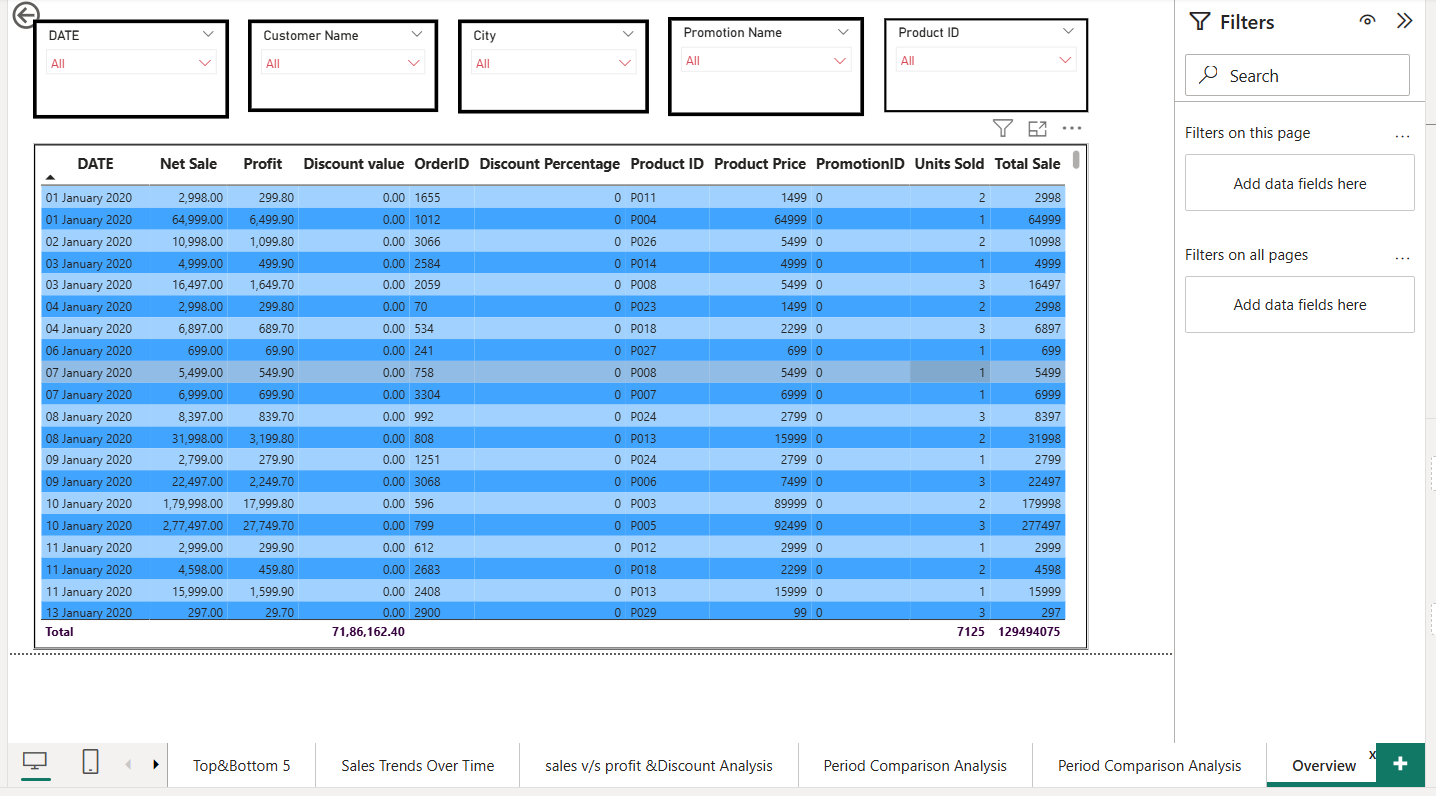

What the dashboard file says about the page in this screenshot:
{"tool":"powerbi","page":{"name":"Overview","canvas":[1280,720],"ordinal":5},"visuals":[{"type":"tableEx","fields":{"Values":["Fact Table.Date (dd/mm/yyyy)","Fact Table.Net Sale ","Fact Table.Profit","Sum(Fact Table.Discount value     )","Fact Table.OrderID","Fact Table.Discount Percentage","Fact Table.Product ID","Fact Table.Product Price","Fact Table.PromotionID","Sum(Fact Table.Units Sold)","Sum(Fact Table.Total Sale   )"]},"box":[27.4,160.3,1158.2,555.7],"z":0},{"type":"actionButton","box":[0,0,100,40],"z":1000},{"type":"slicer","fields":{"Values":["Fact Table.Product ID"]},"box":[961.9,23.3,223.7,102.9],"z":2000},{"type":"slicer","fields":{"Values":["Dim Customers.City"]},"box":[493.8,24.7,209.9,102.9],"z":3000},{"type":"slicer","fields":{"Values":["Dim Customers.Customer Name"]},"box":[264,24.7,208.6,101.5],"z":4000},{"type":"slicer","fields":{"Values":["Dim Promotion.Promotion Name"]},"box":[724.9,22,215.4,108.4],"z":5000},{"type":"slicer","fields":{"Values":["Fact Table.DATE"]},"box":[27.4,24.7,215.4,108.4],"z":6000}]}

Visuals, with their boxes on the page's 1280x720 design canvas (x1, y1, x2, y2). These are canvas units, not pixel positions in the 1436x796 screenshot, which may show the page scaled, cropped or inside an application window:
tableEx - Fact Table.Date (dd/mm/yyyy) x Fact Table.Net Sale : bbox=[27, 160, 1186, 716]
actionButton: bbox=[0, 0, 100, 40]
slicer - Fact Table.Product ID: bbox=[962, 23, 1186, 126]
slicer - Dim Customers.City: bbox=[494, 25, 704, 128]
slicer - Dim Customers.Customer Name: bbox=[264, 25, 473, 126]
slicer - Dim Promotion.Promotion Name: bbox=[725, 22, 940, 130]
slicer - Fact Table.DATE: bbox=[27, 25, 243, 133]
